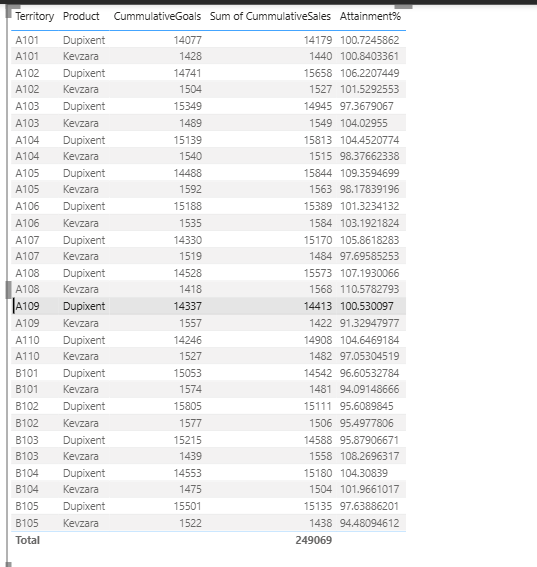

This screenshot's page, from the dashboard's own definition file:
{"tool":"powerbi","page":{"name":"Page 1","canvas":[1280,720],"ordinal":0},"visuals":[{"type":"tableEx","fields":{"Values":["Goals.Territory","Goals.Product","Goals.CummulativeGoals","Sum(Sales.CummulativeSales)","Sales.Attainment%"]},"box":[9.4,0,999.7,720],"z":0}]}

Visuals, with their boxes on the page's 1280x720 design canvas (x1, y1, x2, y2). These are canvas units, not pixel positions in the 537x567 screenshot, which may show the page scaled, cropped or inside an application window:
tableEx - Goals.Territory x Goals.Product: [9,0,1009,720]
